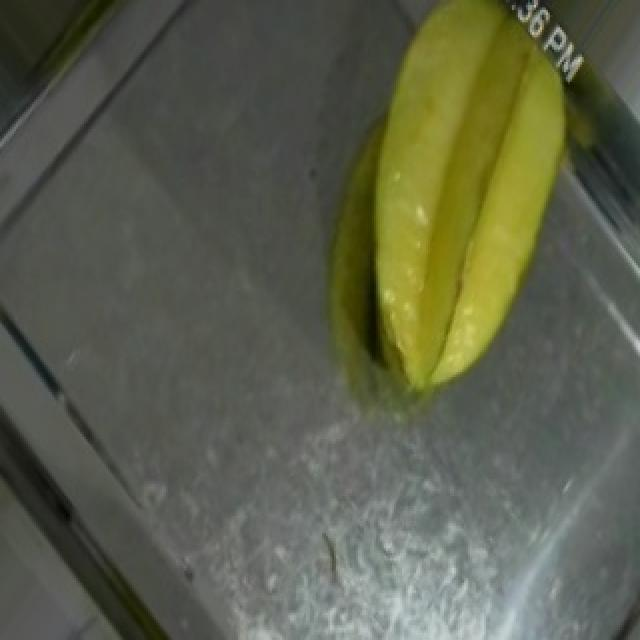fruit: (318, 5, 634, 389)
